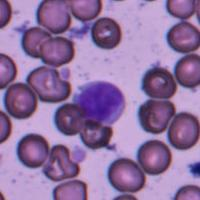L: (73, 78, 127, 125)
